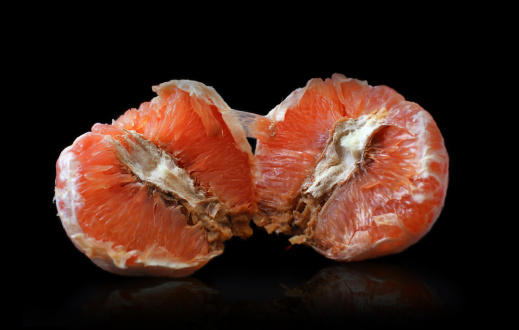damaged_grapefruit: (55, 89, 253, 265), (263, 75, 443, 260)
